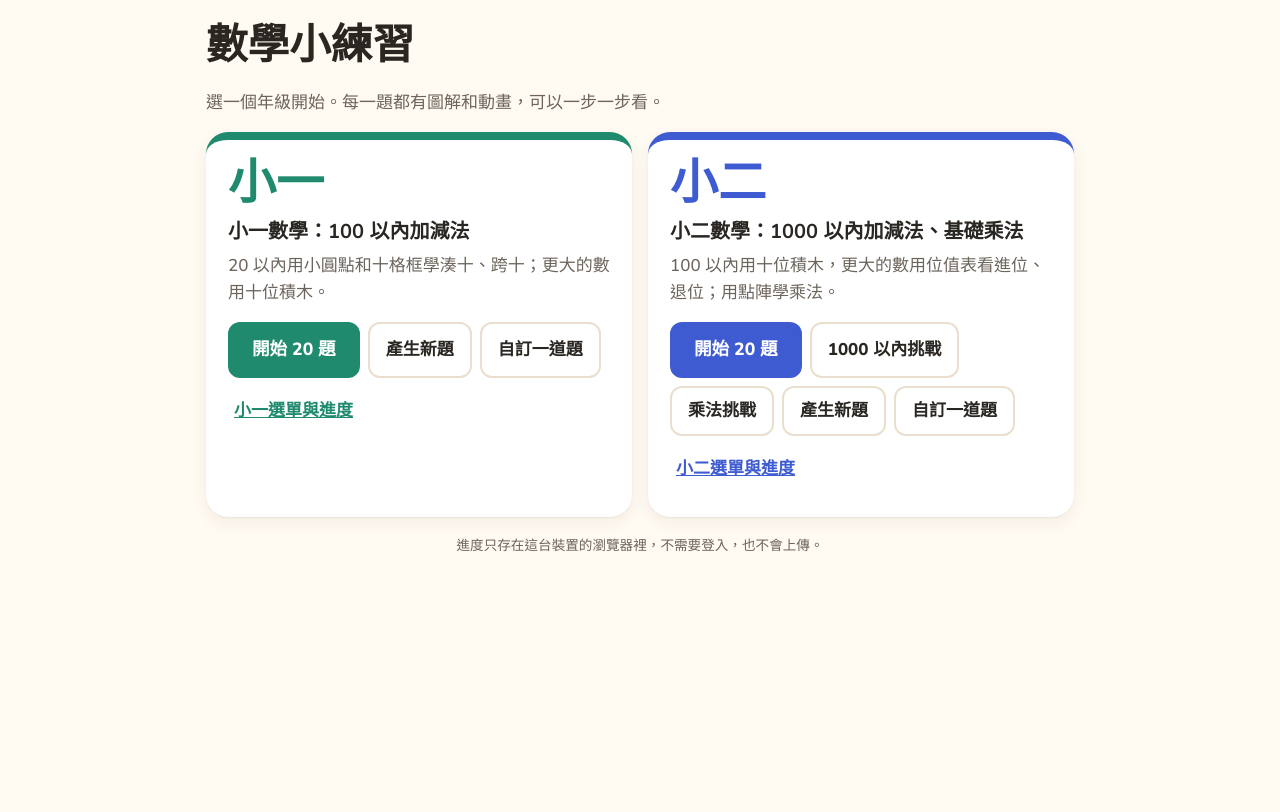
app flow › generates a new grade 2 set from the form
The image size is (1280, 812).
Click the button "產生新題" below "100 以內用十位積木，更大的數用位值表看進位、退位；用點陣學乘法。".
click(834, 411)  # box [782, 386, 886, 436]
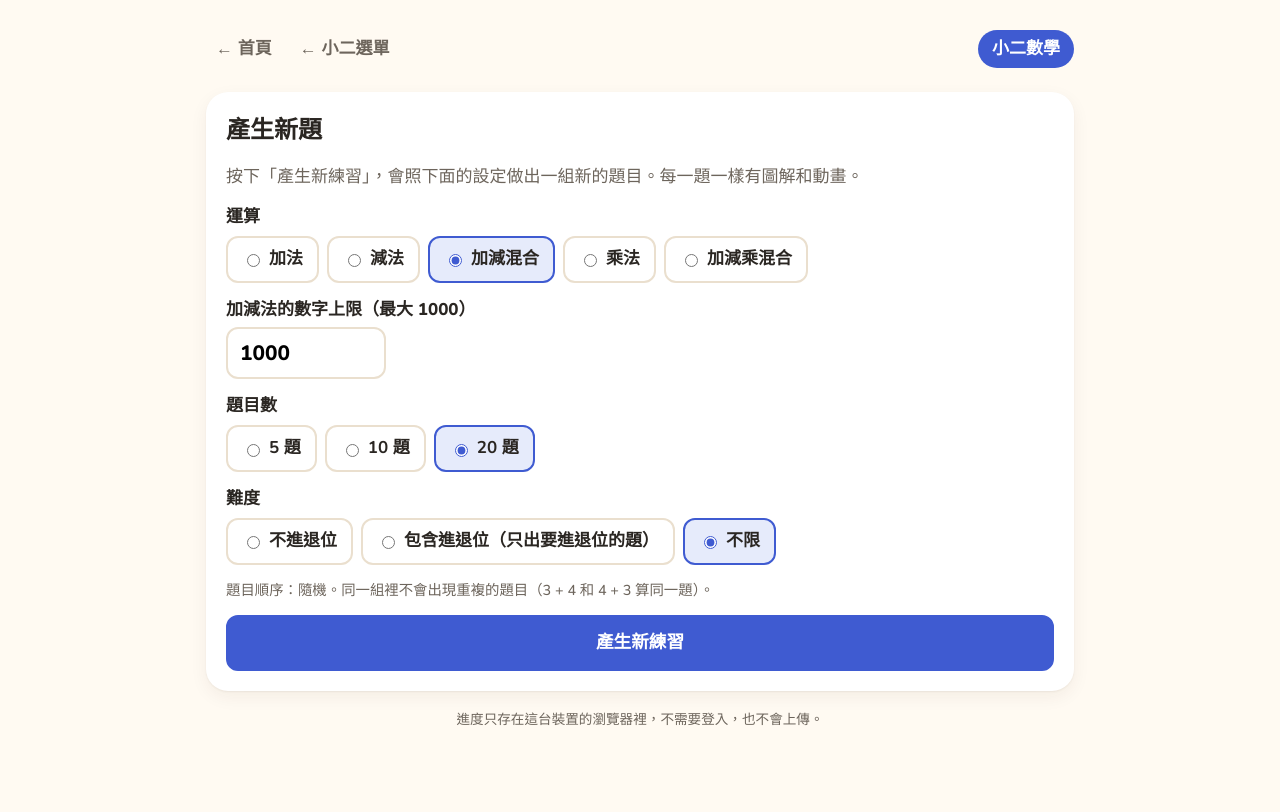
Click the radio button labelled "5 題".
click(254, 450)  # box [247, 444, 260, 457]
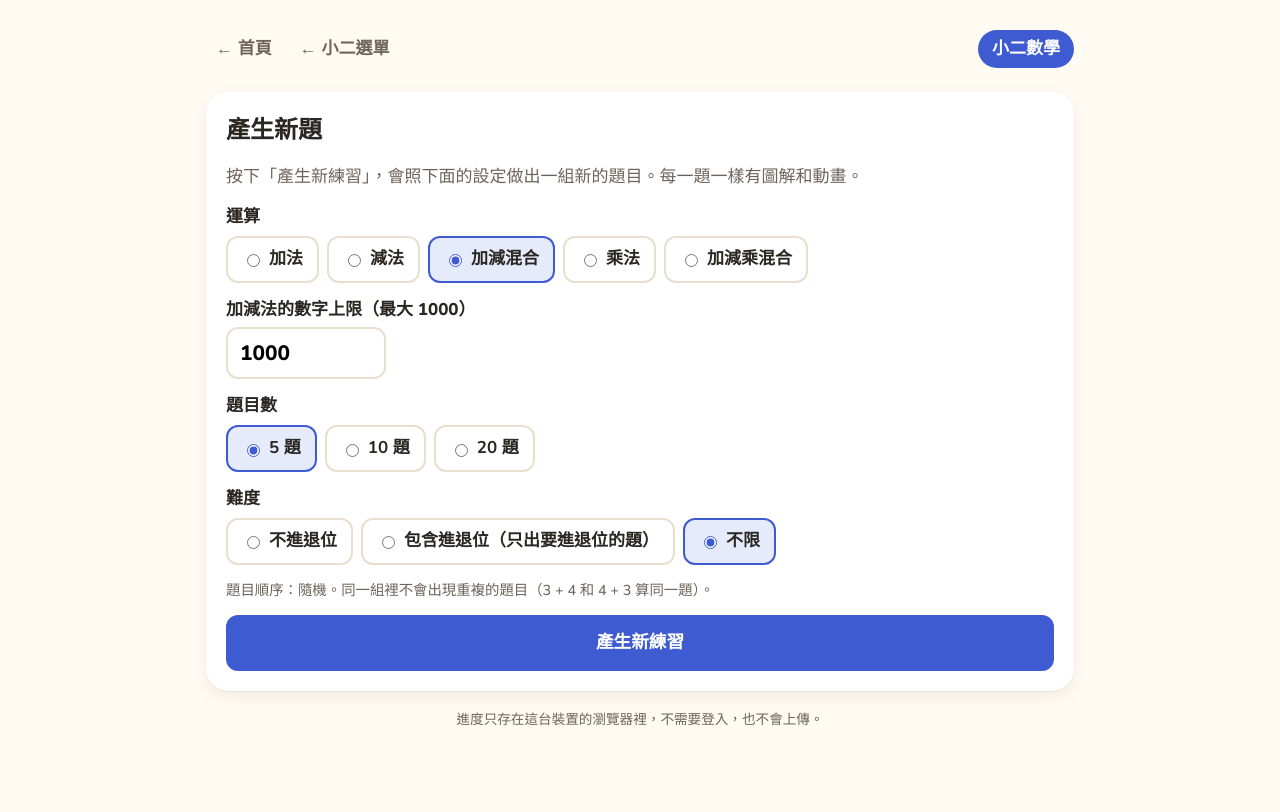
Click the button "產生新練習".
click(640, 643)  # box [226, 615, 1054, 671]
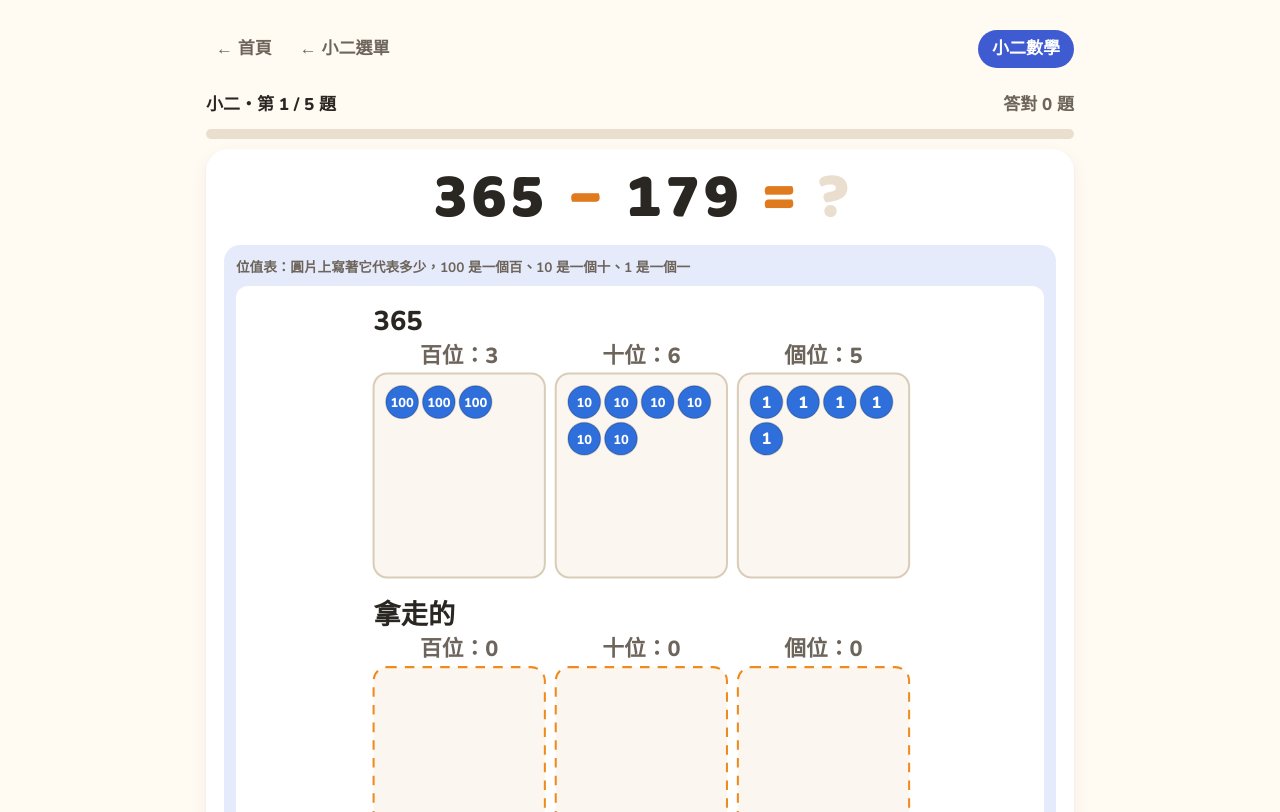
Check: the text "小二・第 1 / 5 題" is shown, box [206, 92, 336, 119]
